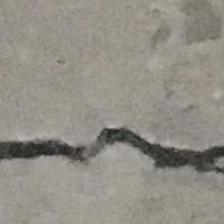Crack: (0, 118, 224, 193)
